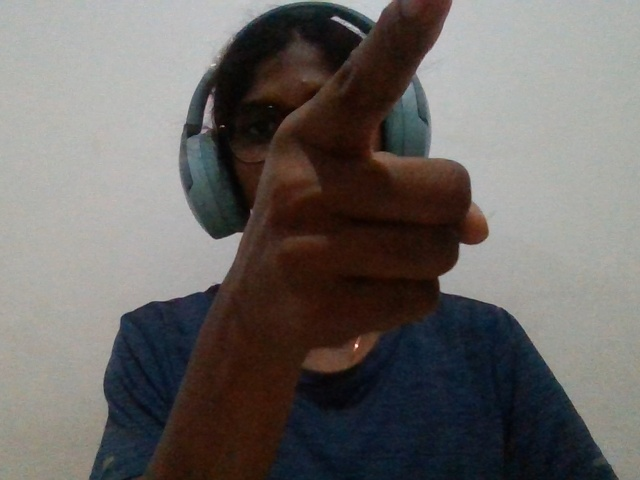You: (184, 1, 540, 377)
